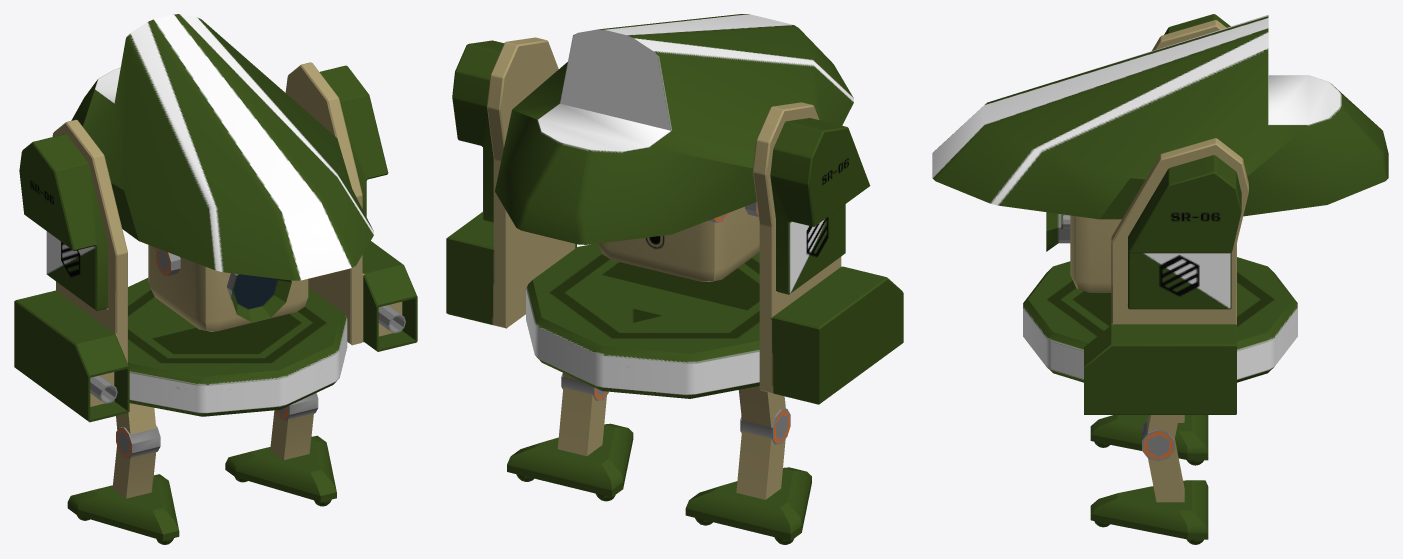
File: enemy.fbx
3 renders of one model, left to right at view 1: azimuth 30°, elevation 25°; view 2: azimuth 150°, elevation 25°; view 3: azimuth 270°, elevation 25°, orthographic. The views are drawn at different scales.
Parts seen in each view (by area): view 1: walk_enemy_ver2; view 2: walk_enemy_ver2; view 3: walk_enemy_ver2.
Part boxes in pixels (bbox=[...]): walk_enemy_ver2: bbox=[14, 14, 417, 544]; walk_enemy_ver2: bbox=[446, 14, 903, 544]; walk_enemy_ver2: bbox=[932, 14, 1388, 544].
Bounding box in the file's own units: 282 × 368 × 328.
1 material, 1 textured.
